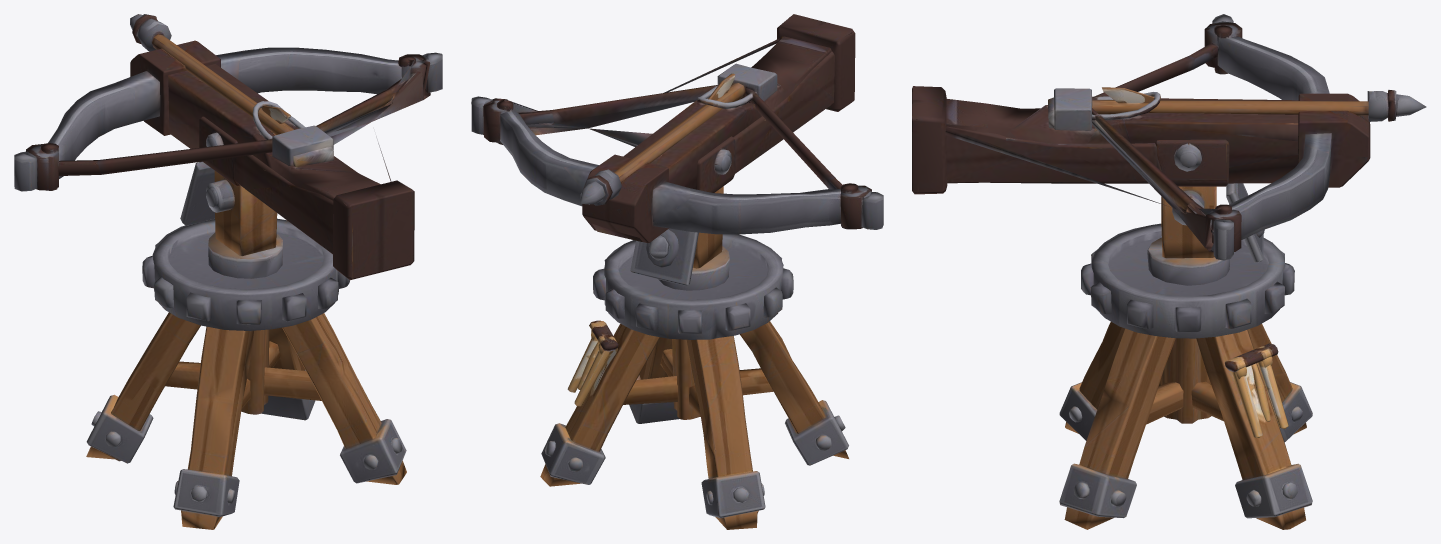
Rendered from turret.glb.
3 views of the same model, side by side, from view 1: azimuth 30°, elevation 25°; view 2: azimuth 150°, elevation 25°; view 3: azimuth 270°, elevation 25° (orthographic). The views are drawn at different scales.
Parts seen in each view (by area): view 1: Part1, Part0; view 2: Part1, Part0; view 3: Part1, Part0.
Part boxes in pixels (x1=…): Part1: x1=14, y1=14, x2=442, y2=280; Part0: x1=86, y1=218, x2=406, y2=529; Part1: x1=471, y1=14, x2=883, y2=290; Part0: x1=540, y1=234, x2=848, y2=529; Part1: x1=912, y1=14, x2=1426, y2=285; Part0: x1=1059, y1=223, x2=1312, y2=529.
Size of the model in its own units: 1.36 by 1.15 by 1.38.
1 material, 1 textured.
